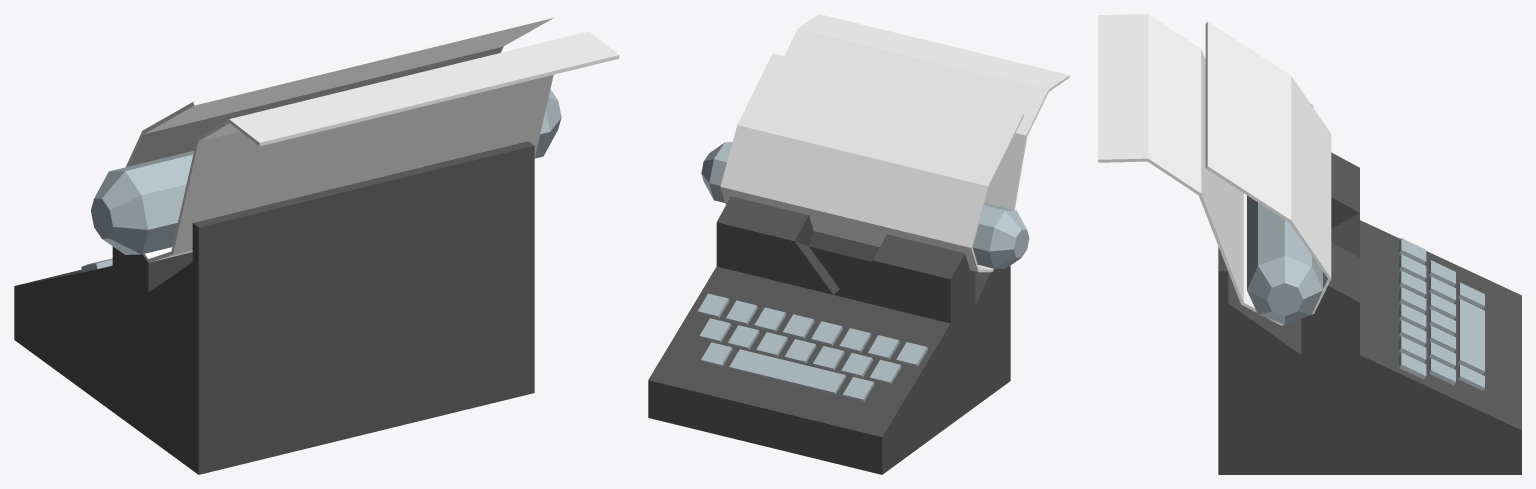
The model's file is typewriter.gltf.
3 renders of one model, left to right at view 1: azimuth 30°, elevation 25°; view 2: azimuth 150°, elevation 25°; view 3: azimuth 270°, elevation 25°, orthographic. The views are drawn at different scales.
Parts seen in each view (by area): view 1: node-0; view 2: node-0; view 3: node-0.
Boxes of the visible parts, bbox=[...] form: node-0: bbox=[14, 14, 619, 474]; node-0: bbox=[648, 14, 1069, 474]; node-0: bbox=[1098, 14, 1521, 474].
Size of the model in its own units: 10.3 by 8.78 by 10.23.
